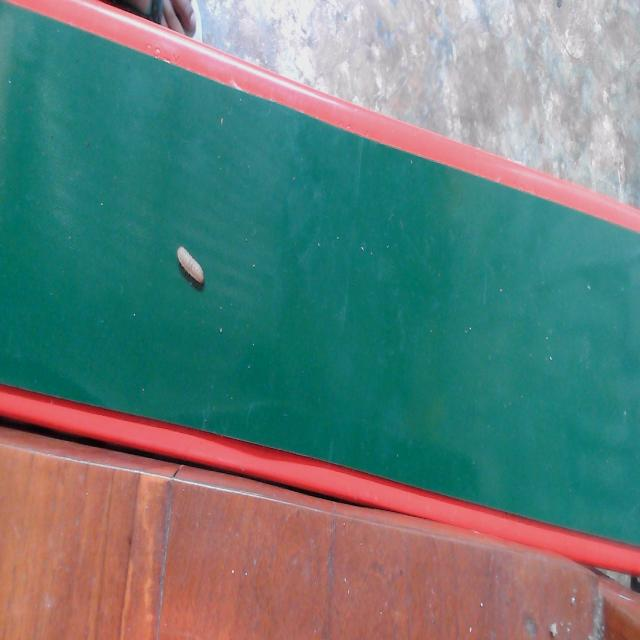Maggot: (175, 247, 206, 292)
